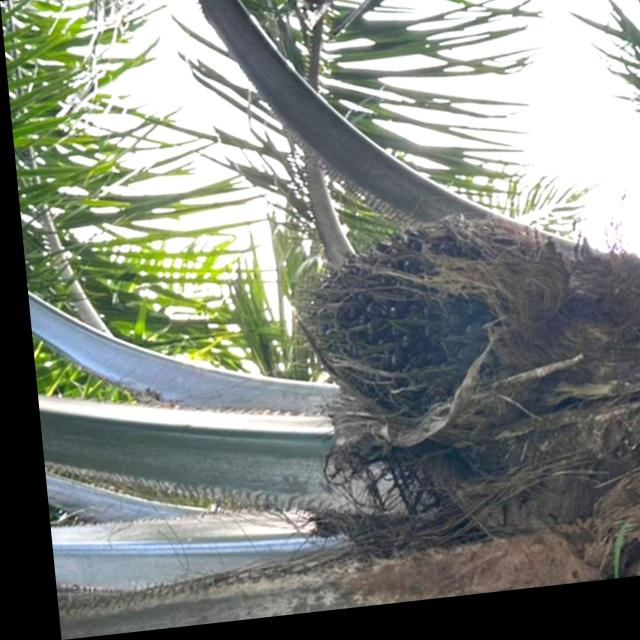almost: (271, 221, 517, 448)
